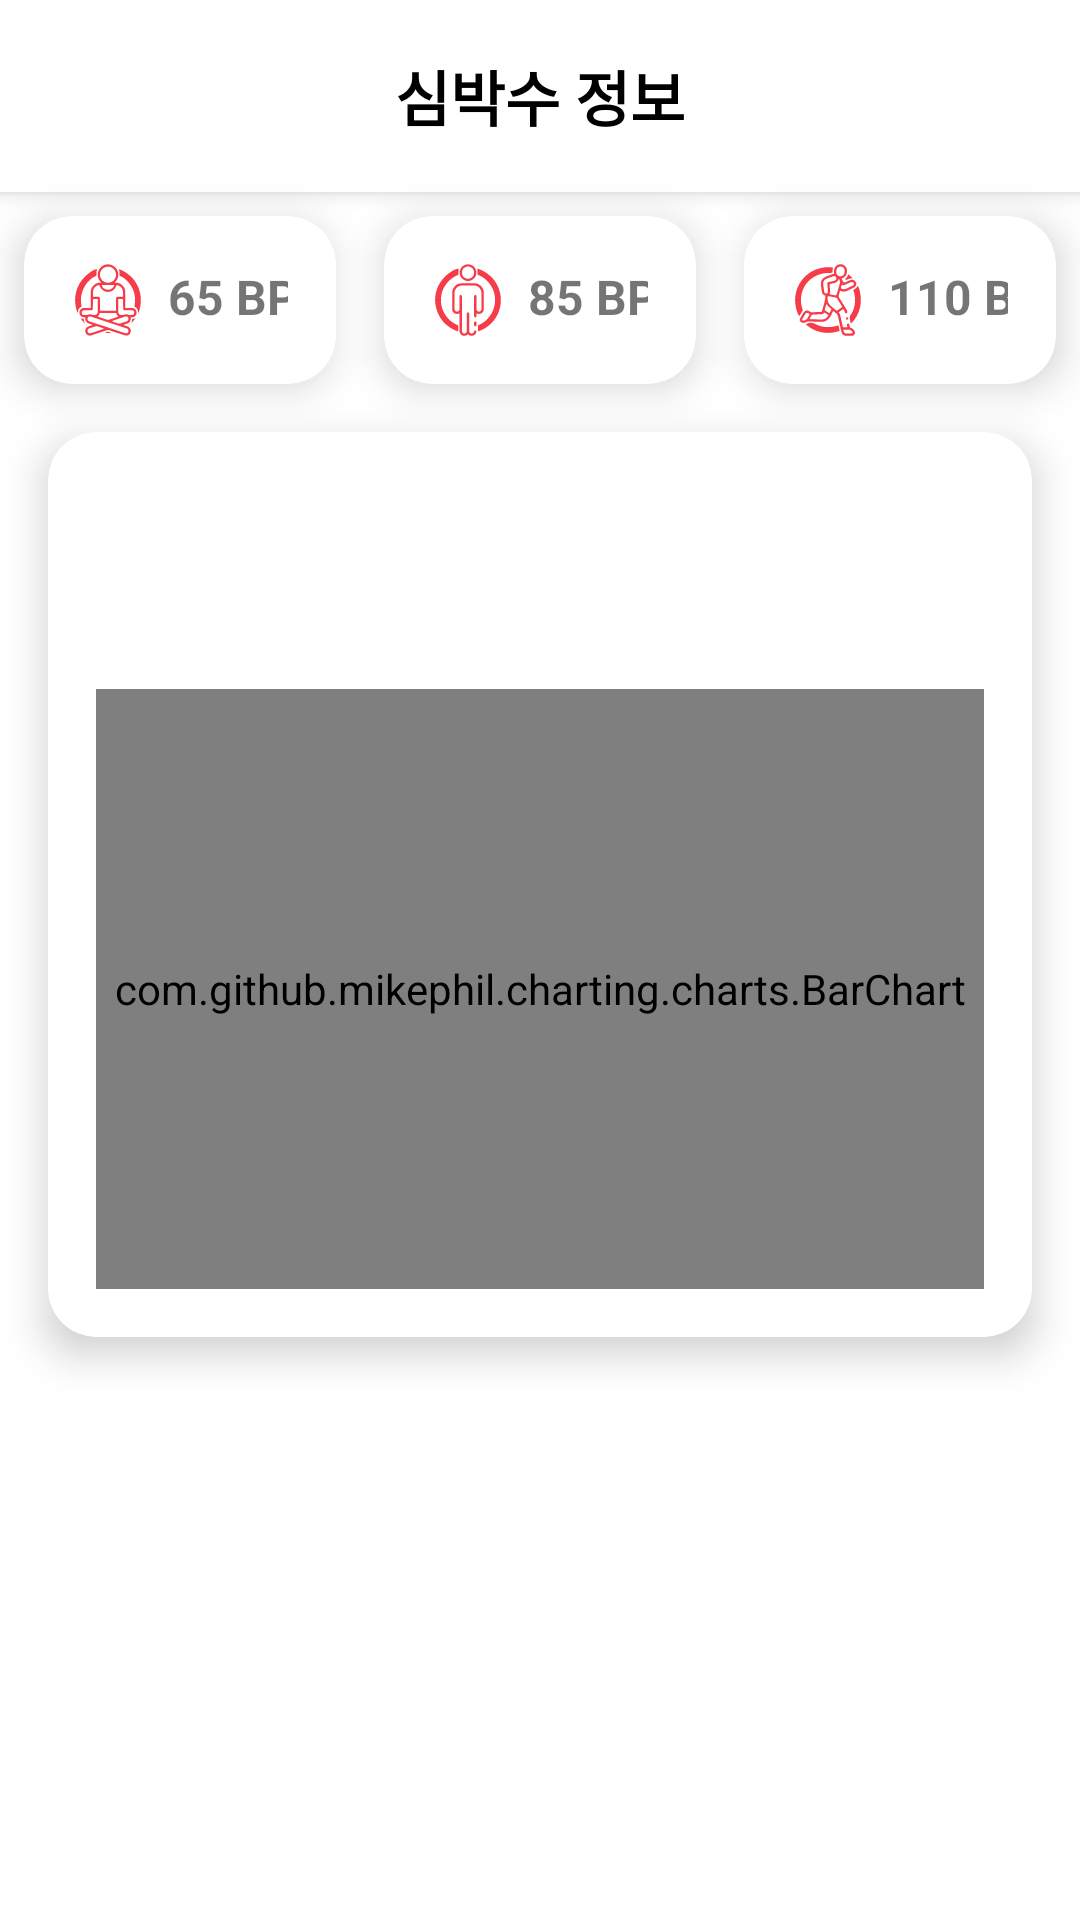

Named icons in this screenshot (1080×1920) and their centers, (x,y):
운동 심박수 아이콘: (828,300)
활동 심박수 아이콘: (468,300)
휴식 심박수 아이콘: (108,300)
